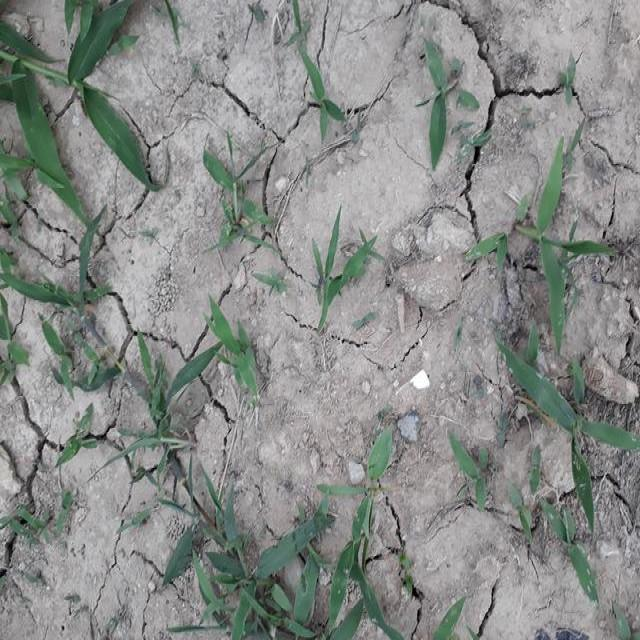weed: (157, 497, 417, 640), (16, 18, 161, 212), (6, 219, 132, 394), (501, 351, 627, 521), (526, 143, 598, 344), (113, 330, 196, 466), (202, 143, 284, 267), (421, 42, 475, 170), (202, 307, 274, 396), (316, 219, 368, 332), (300, 50, 342, 143)
